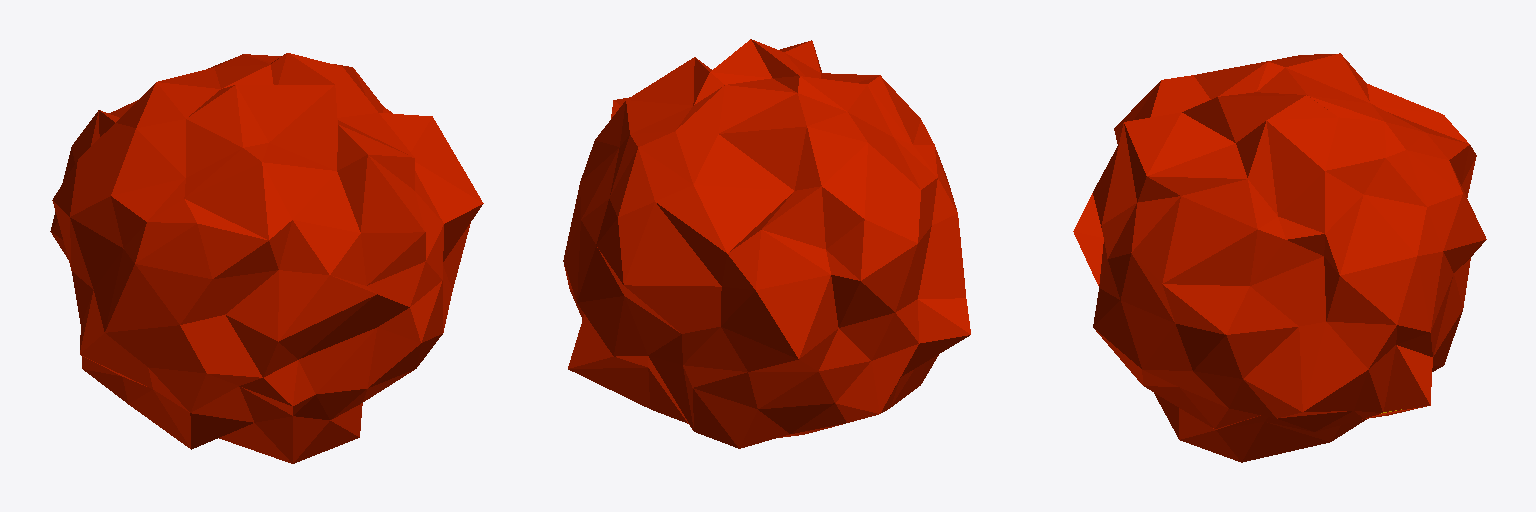
File: Explosion_test.obj
3 renders of one model, left to right at view 1: azimuth 30°, elevation 25°; view 2: azimuth 150°, elevation 25°; view 3: azimuth 270°, elevation 25°, orthographic.
Visible parts, largest first — view 1: Icosphere.001; view 2: Icosphere.001; view 3: Icosphere.001.
Boxes of the visible parts, box(x1,y1,x2,y2) form: Icosphere.001: box(50, 53, 483, 463); Icosphere.001: box(563, 39, 970, 448); Icosphere.001: box(1073, 53, 1486, 462).
Bounding box in the file's own units: 1.12 × 1.03 × 1.06.